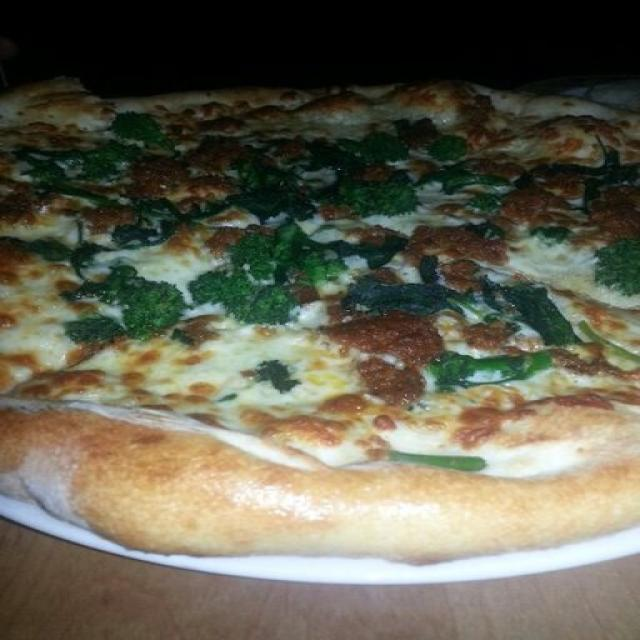Beef: (324, 315, 445, 363), (349, 356, 430, 411), (126, 149, 215, 199), (414, 218, 516, 260), (508, 168, 577, 225)
Cheese: (120, 348, 317, 402), (462, 398, 579, 433)
Pizza: (0, 78, 640, 568)
